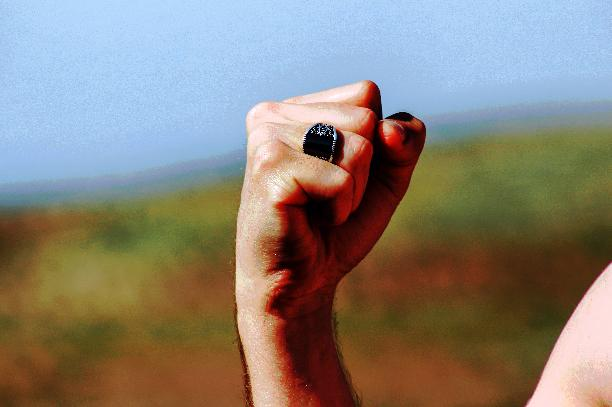Rock: (226, 69, 431, 313)
